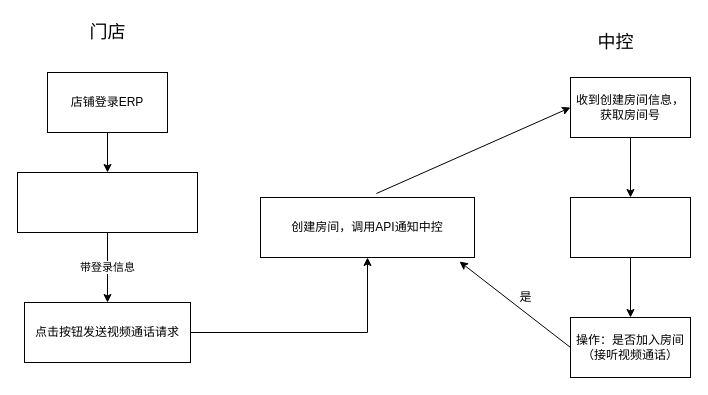
This 708x395 diagram has some shape labels left out. Here are the shapes that lost their labels. From the top down, the box of each, then its label:
(16, 172, 198, 232): 点击菜单，跳转到视频通话页
(570, 196, 690, 258): 列表显示当前已经创建的房间
